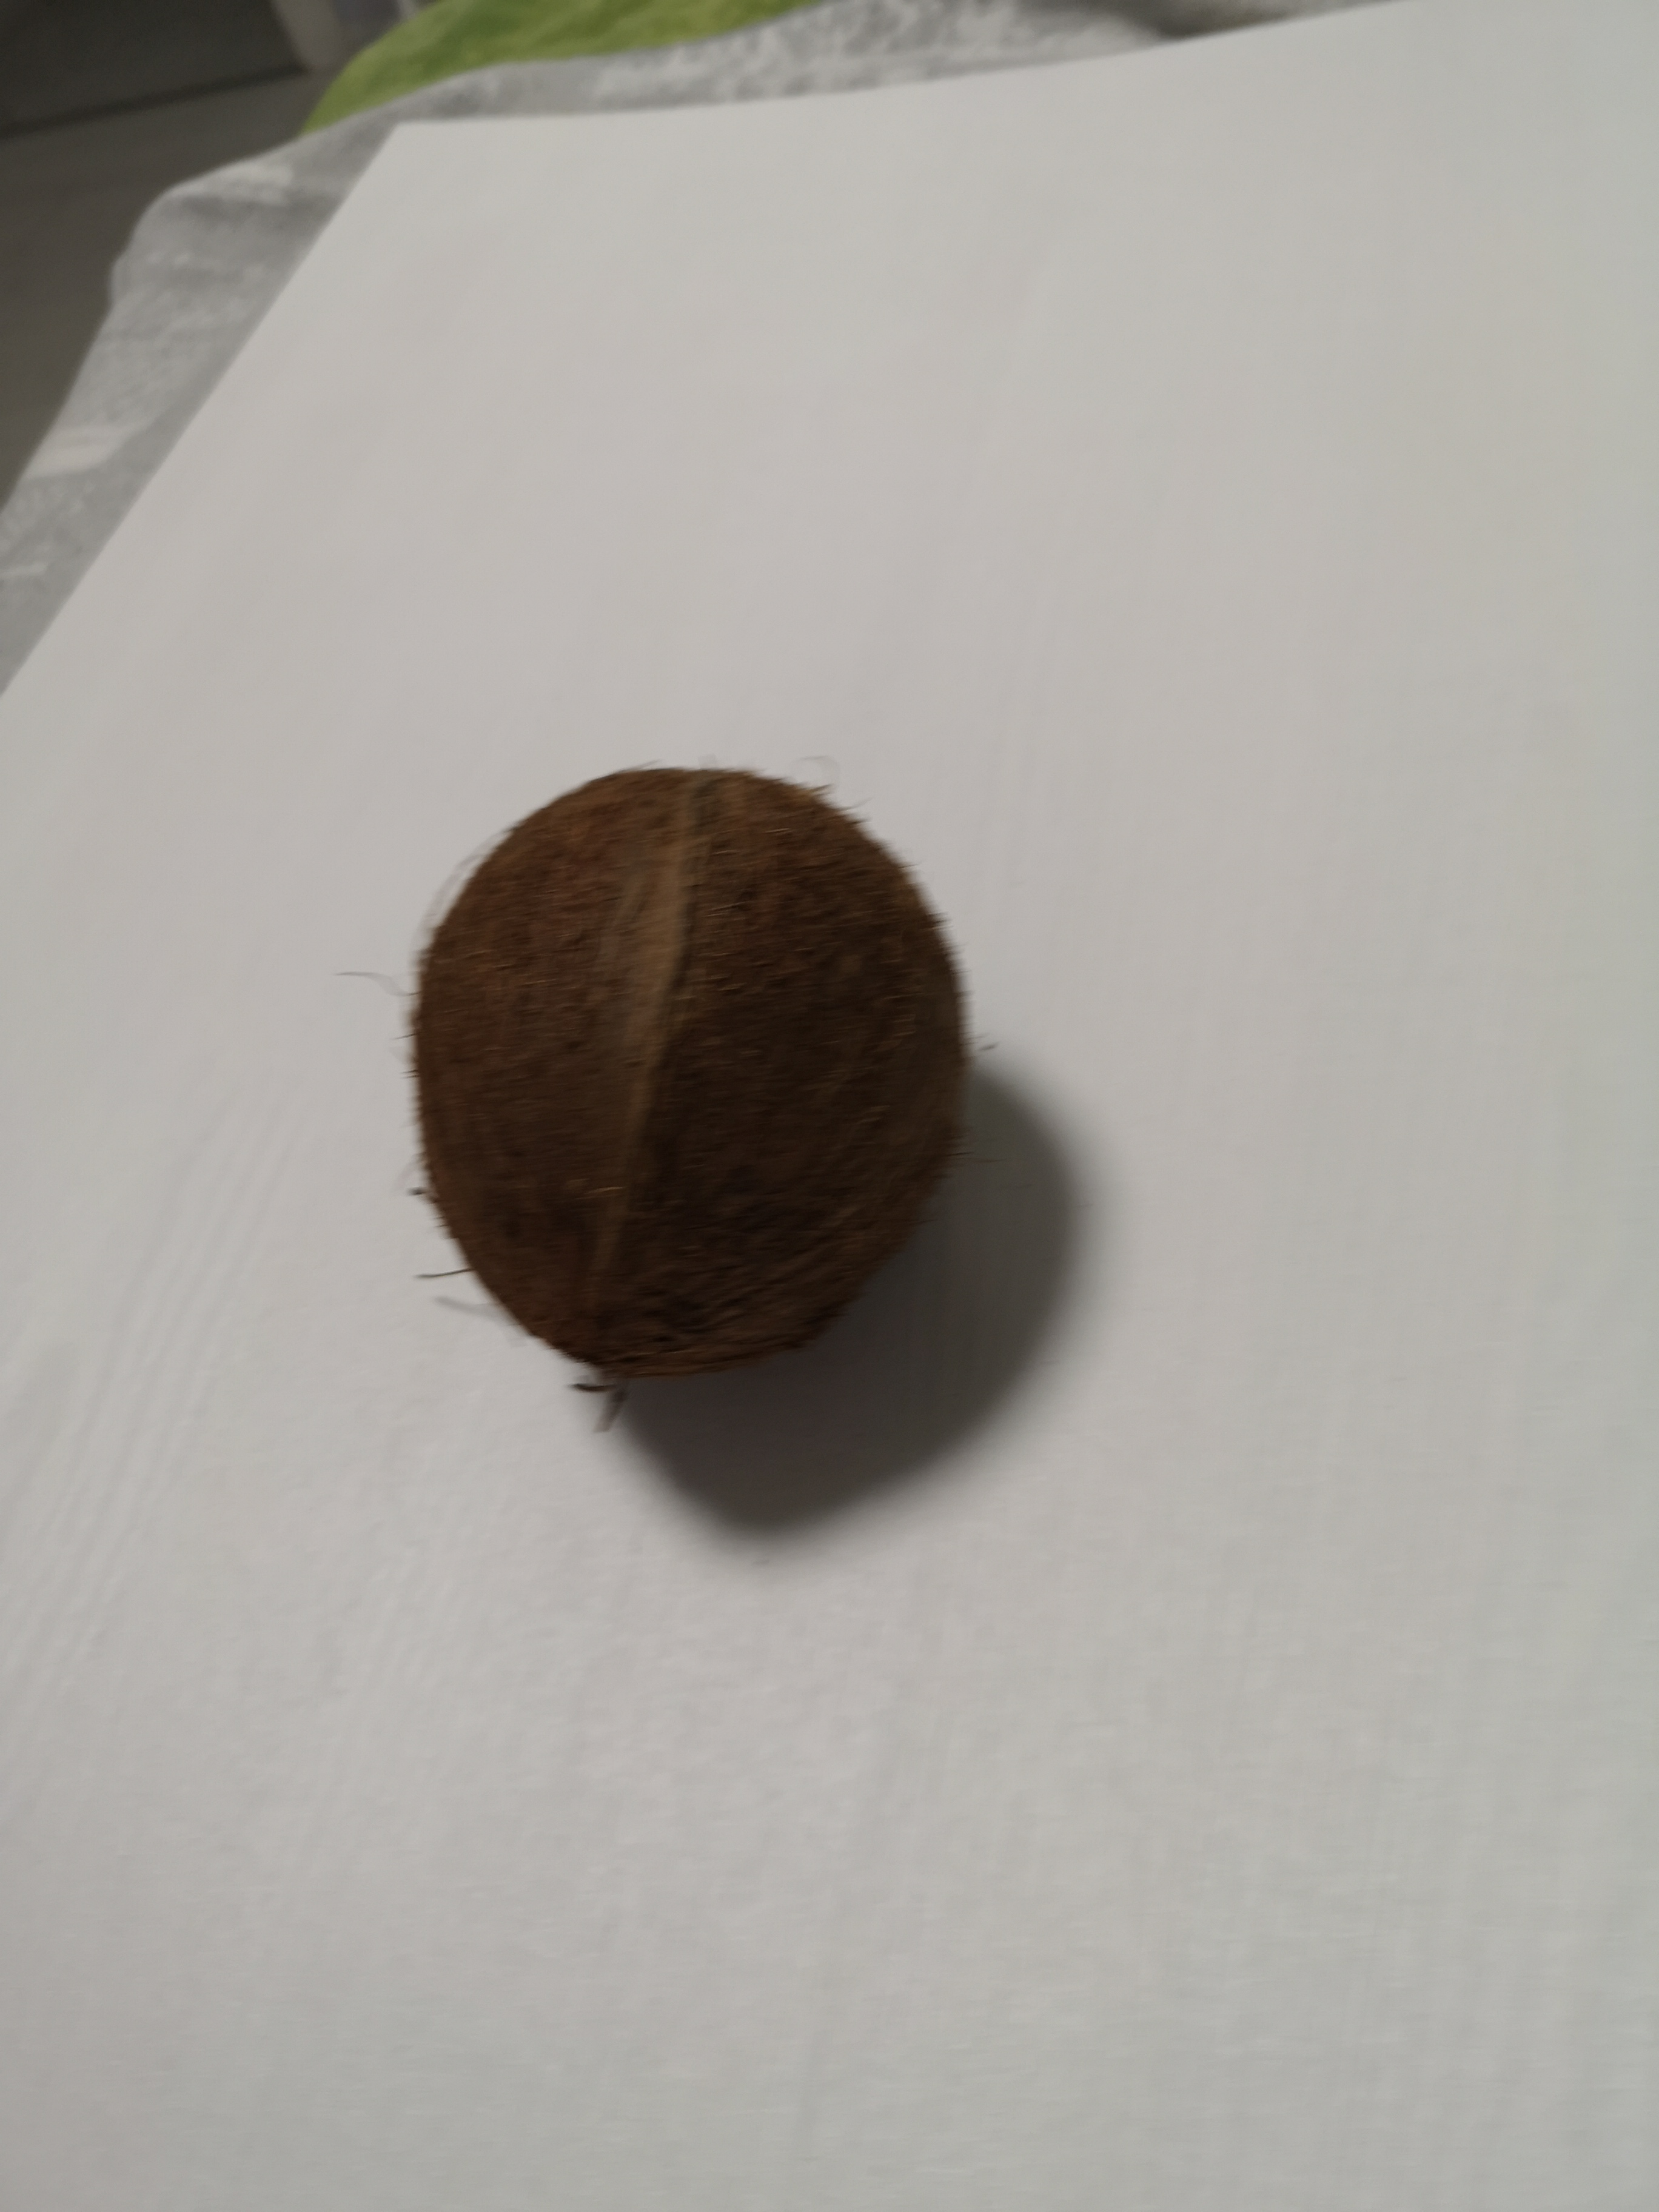coconut: (397, 745, 979, 1392)
